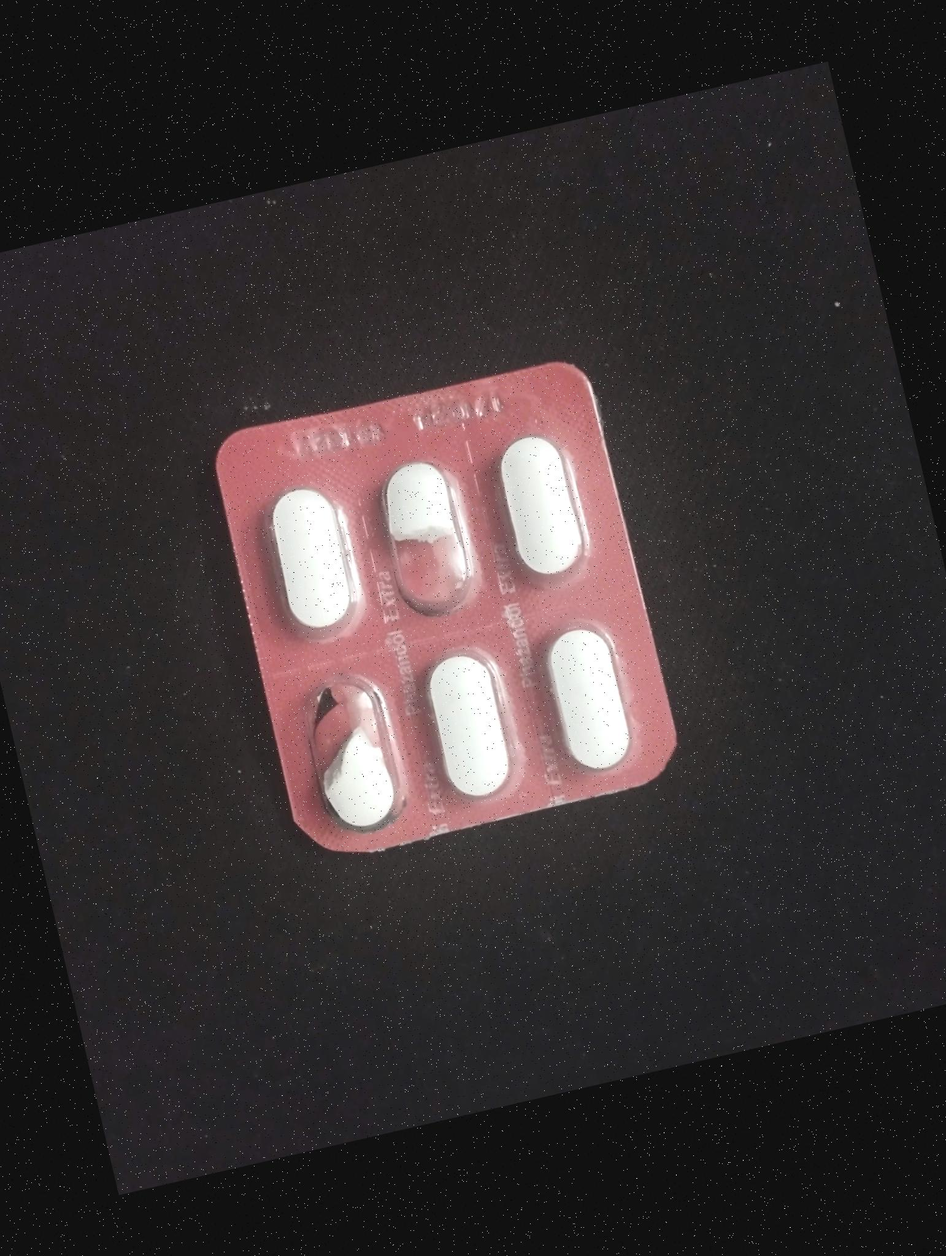Full: (250, 473, 370, 661), (521, 604, 648, 778), (406, 637, 526, 816), (480, 420, 604, 585)
